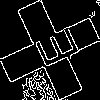E: (25, 25, 81, 74)
